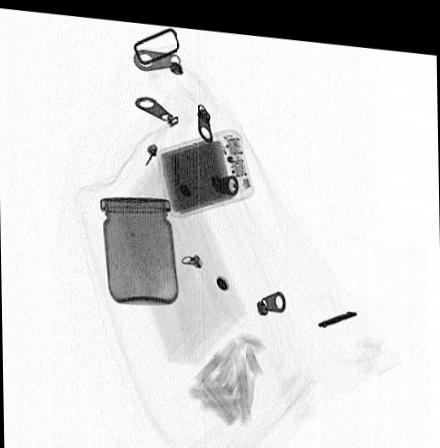Powerbank: (157, 122, 253, 213)
